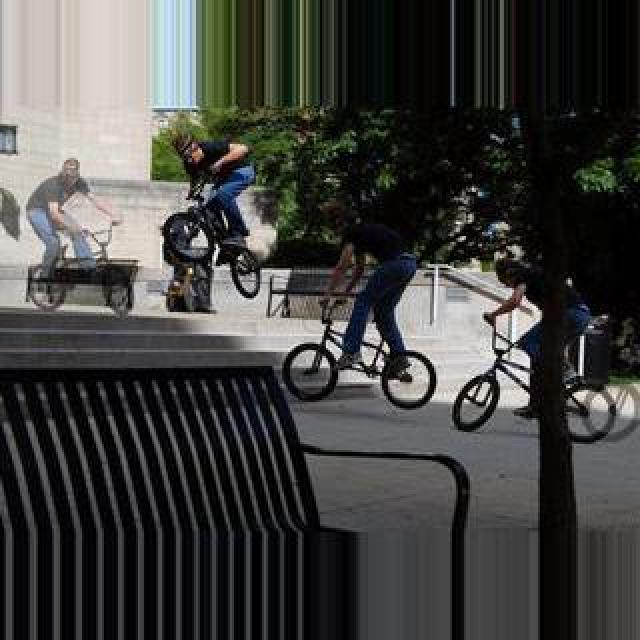MC-Bike: (480, 248, 592, 428), (316, 204, 420, 378), (172, 122, 254, 246), (24, 156, 90, 294)
Person: (452, 316, 620, 444), (282, 302, 438, 410), (160, 178, 262, 300), (26, 214, 134, 314)
